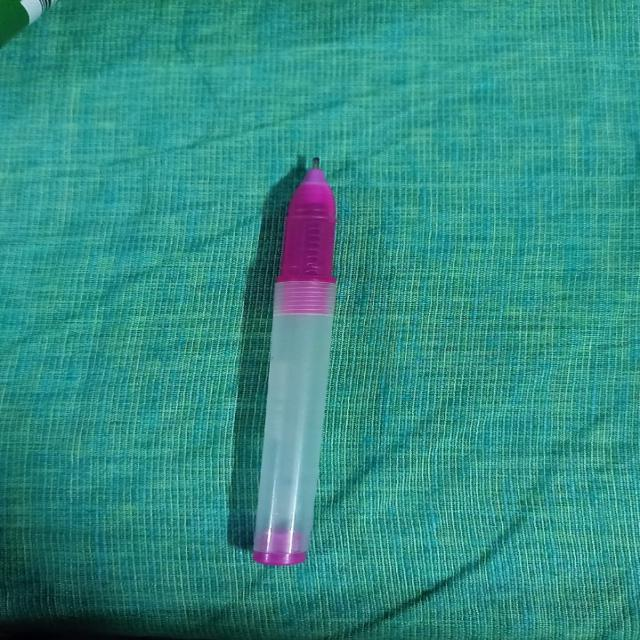pen: (223, 147, 365, 579)
